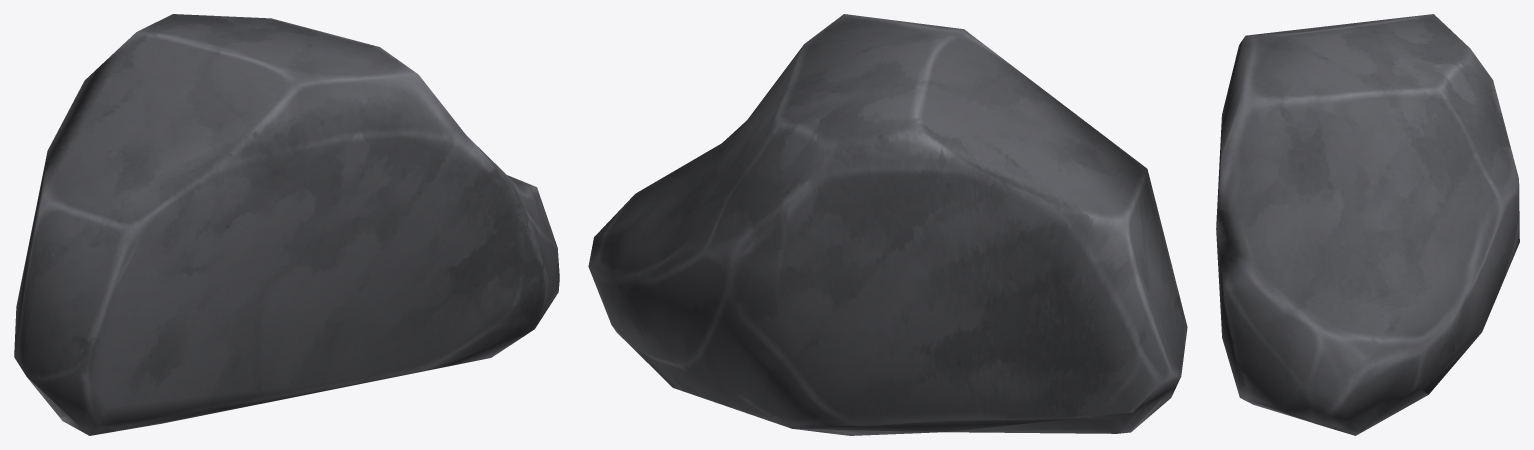
The model's file is Stone1_v1.fbx.
The picture shows the model from 3 angles, left to right: view 1: azimuth 30°, elevation 25°; view 2: azimuth 150°, elevation 25°; view 3: azimuth 270°, elevation 25°; orthographic projection. The views are drawn at different scales.
Visible parts, largest first — view 1: Stone1_v1; view 2: Stone1_v1; view 3: Stone1_v1.
Boxes of the visible parts, x1,y1,x2,y2 form: Stone1_v1: (14,14,559,435); Stone1_v1: (588,14,1187,435); Stone1_v1: (1216,14,1519,435).
Bounding box in the file's own units: 200 × 114 × 108.
1 material, 1 textured.
